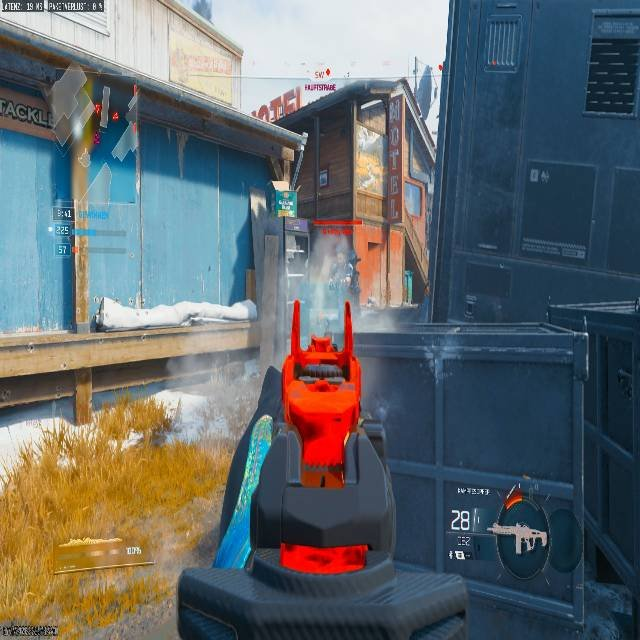head: (335, 242, 348, 258)
player: (328, 241, 360, 299), (365, 297, 376, 309)
